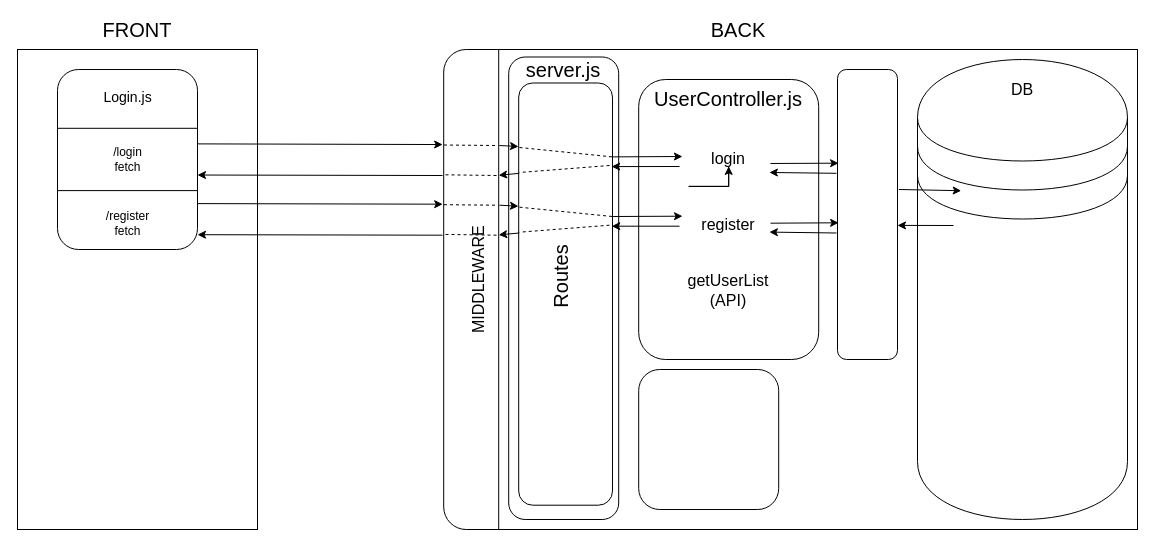
The diagram is 1155 pixels wide and 547 high, and some of its shapes have lost their labels. Here are the shapes that lost their labels. From the top down, the centre of each, then its label:
At pixel 867 214: "User model".
At pixel 708 439: "Enterprise Controller.js".
